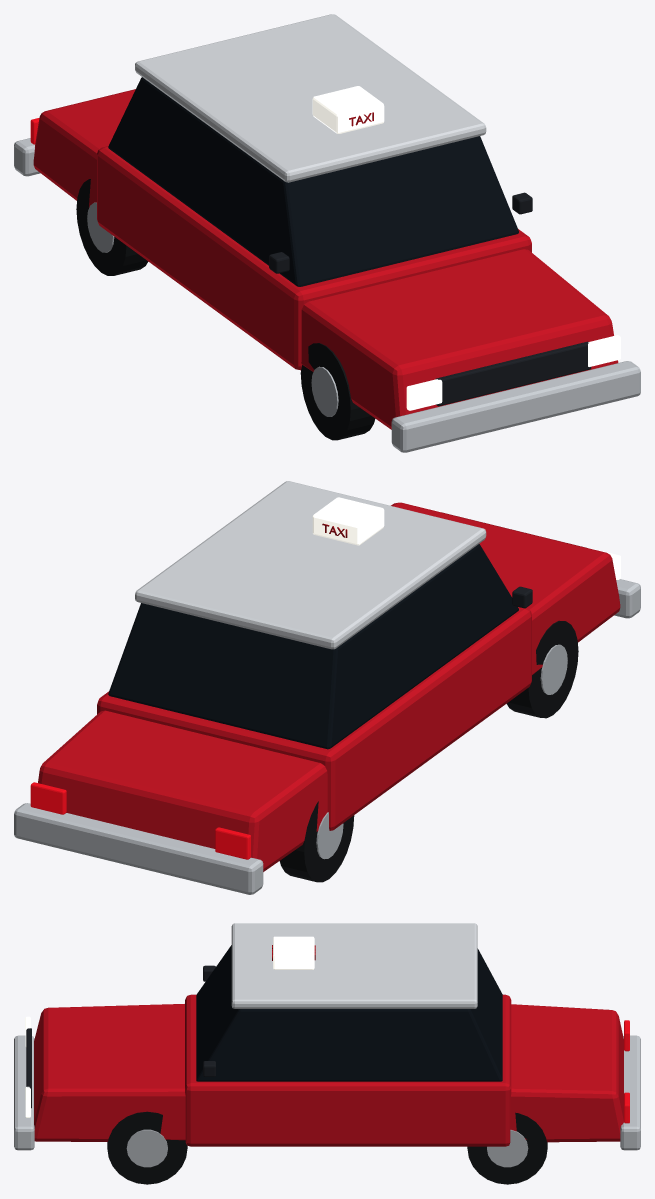
Rendered from hk-taxi.glb.
3 views of the same model, one above another, from view 1: azimuth 30°, elevation 25°; view 2: azimuth 150°, elevation 25°; view 3: azimuth 270°, elevation 25° (orthographic). The views are drawn at different scales.
Visible parts, largest first — view 1: Cabin, Roof, Hood, Body, BumperF, Boot, Grille, WheelFL, WheelRL, Sign, HeadlightL, HeadlightR (+1 smaller); view 2: Cabin, Roof, Boot, Body, Hood, BumperR, WheelFL, WheelRL, Sign, TaillightR, TaillightL, BumperF; view 3: Cabin, Body, Roof, Hood, Boot, WheelFR, WheelRR, BumperF, BumperR, Sign.
Boxes of the visible parts, left/top/right/bottom form: Cabin: left=108, top=77, right=518, bottom=286; Roof: left=135, top=14, right=486, bottom=182; Hood: left=301, top=249, right=618, bottom=429; Body: left=97, top=146, right=531, bottom=370; BumperF: left=391, top=361, right=640, bottom=452; Boot: left=33, top=89, right=135, bottom=207; Grille: left=435, top=341, right=591, bottom=406; WheelFL: left=300, top=343, right=375, bottom=440; WheelRL: left=76, top=179, right=148, bottom=275; Sign: left=312, top=86, right=384, bottom=133; HeadlightL: left=406, top=379, right=442, bottom=410; HeadlightR: left=588, top=335, right=620, bottom=366; Cabin: left=108, top=544, right=518, bottom=749; Roof: left=135, top=481, right=486, bottom=649; Boot: left=38, top=710, right=327, bottom=871; Body: left=97, top=607, right=531, bottom=830; Hood: left=391, top=502, right=620, bottom=674; BumperR: left=14, top=803, right=263, bottom=894; WheelFL: left=506, top=620, right=578, bottom=718; WheelRL: left=279, top=801, right=354, bottom=882; Sign: left=312, top=497, right=384, bottom=545; TaillightR: left=30, top=782, right=66, bottom=814; TaillightL: left=215, top=827, right=250, bottom=859; BumperF: left=614, top=579, right=640, bottom=618; Cabin: left=196, top=945, right=502, bottom=1081; Body: left=185, top=994, right=511, bottom=1146; Roof: left=231, top=923, right=477, bottom=1008; Hood: left=34, top=1004, right=185, bottom=1141; Boot: left=510, top=1004, right=623, bottom=1142; WheelFR: left=107, top=1111, right=187, bottom=1184; WheelRR: left=467, top=1112, right=547, bottom=1184; BumperF: left=14, top=1035, right=34, bottom=1150; BumperR: left=620, top=1035, right=640, bottom=1150; Sign: left=273, top=936, right=314, bottom=969.
Size of the model in its own units: 1.84 by 1.66 by 4.84.
